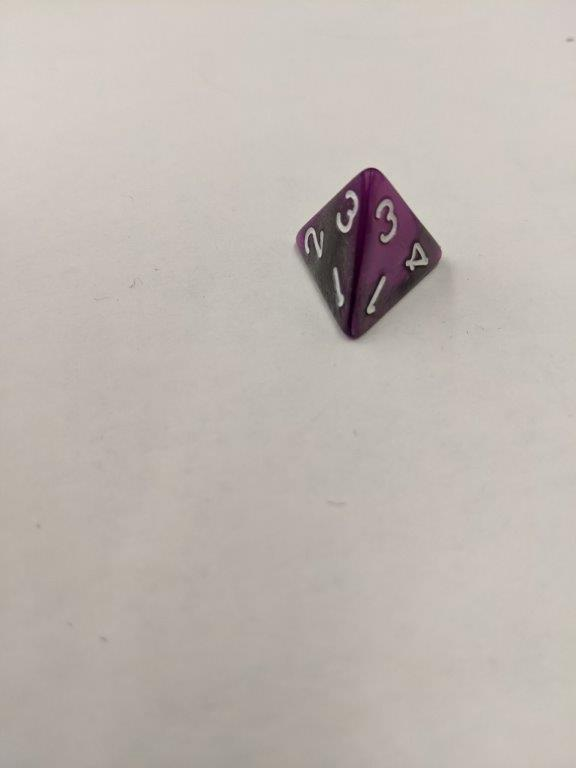d4-3: (292, 165, 444, 342)
